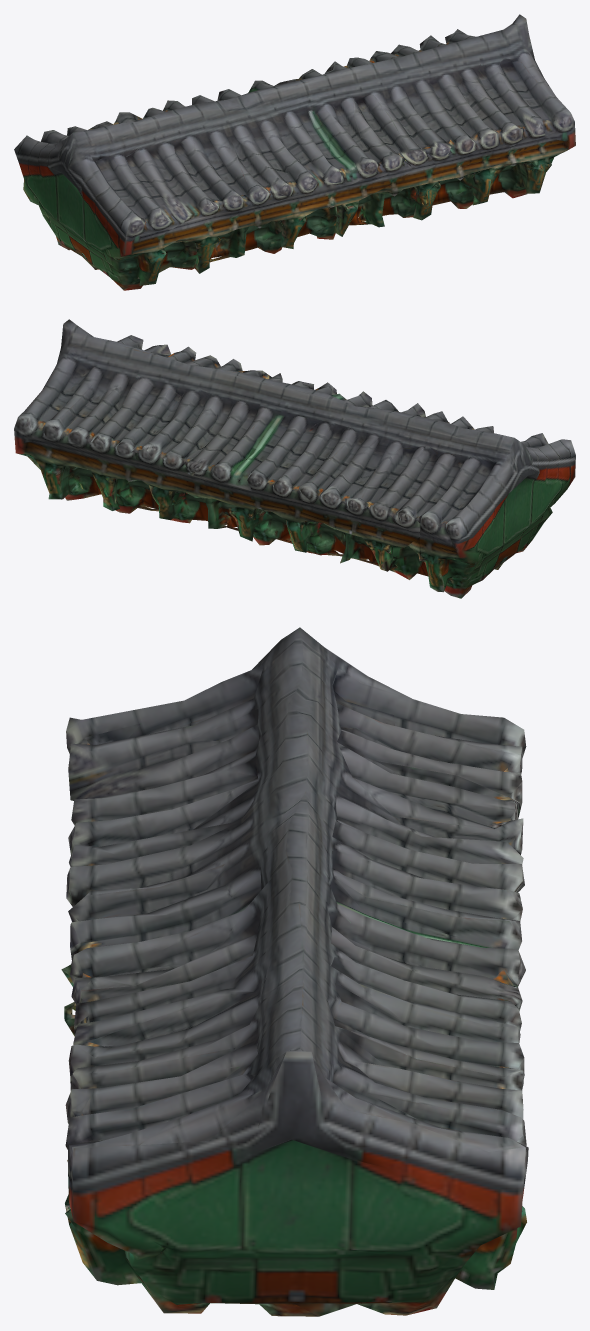
File: 경복궁_직선기와.glb
The picture shows the model from 3 angles, top to bottom: view 1: azimuth 30°, elevation 25°; view 2: azimuth 150°, elevation 25°; view 3: azimuth 270°, elevation 25°; orthographic projection. The views are drawn at different scales.
Parts seen in each view (by area): view 1: texture_mapping; view 2: texture_mapping; view 3: texture_mapping.
Part boxes in pixels (box(x1,y1,x2,y2)): texture_mapping: box(14, 14, 575, 290); texture_mapping: box(14, 319, 575, 598); texture_mapping: box(61, 627, 528, 1316).
Bounding box in the file's own units: 0.9994 × 0.306 × 0.4361.
Materials: 1 (1 with a texture image).
